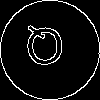Q: (25, 25, 65, 74)
